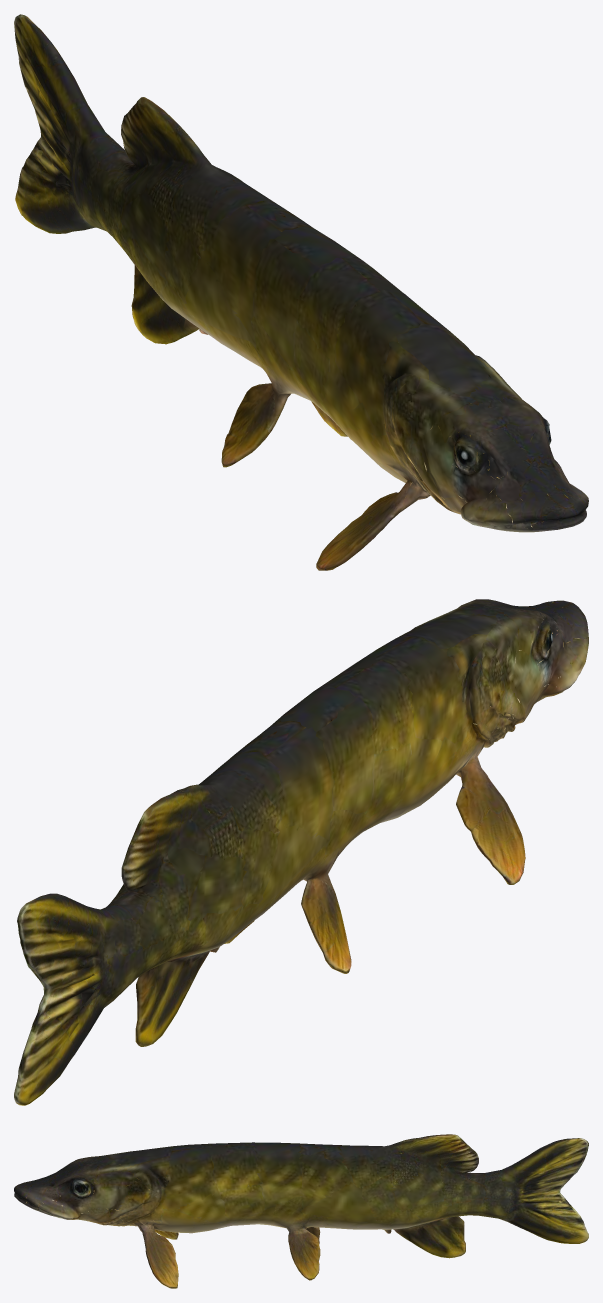
File: pike.glb
The picture shows the model from 3 angles, top to bottom: view 1: azimuth 30°, elevation 25°; view 2: azimuth 150°, elevation 25°; view 3: azimuth 270°, elevation 25°; orthographic projection. The views are drawn at different scales.
Parts seen in each view (by area): view 1: Object_4, Object_5; view 2: Object_4, Object_5; view 3: Object_4, Object_5.
Part boxes in pixels (x1,y1,x2,y2): Object_4: (14, 14, 587, 570); Object_5: (336, 353, 588, 567); Object_4: (14, 599, 588, 1105); Object_5: (436, 600, 588, 839); Object_4: (14, 1134, 588, 1288); Object_5: (25, 1152, 159, 1275).
Size of the model in its own units: 0.3961 by 0.4777 by 1.9.
Materials: 1 (1 with a texture image).
